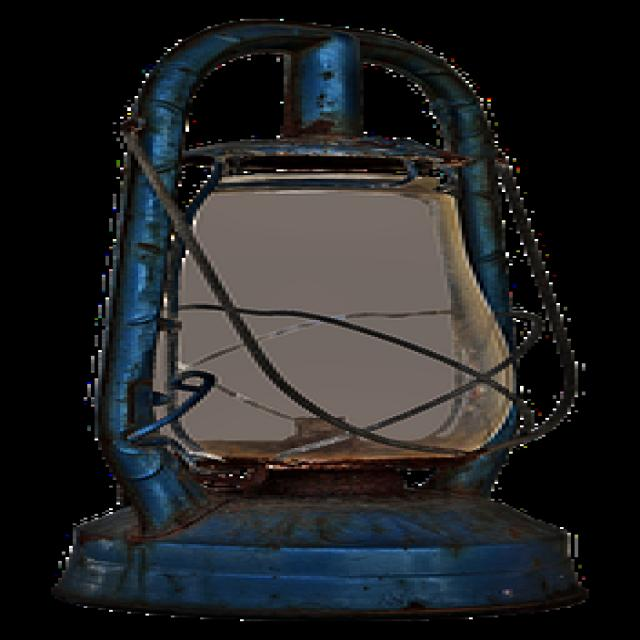corrosion: (40, 12, 601, 626)
